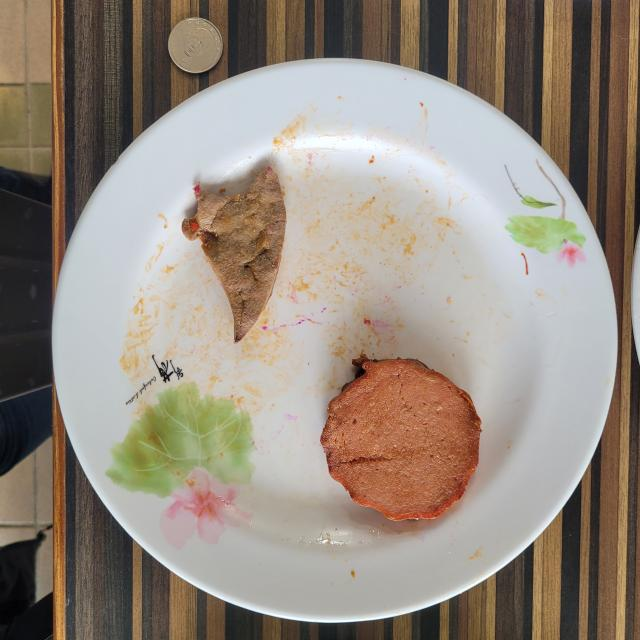Spam: (321, 355, 481, 520)
coin: (168, 18, 222, 74)
pig liver: (181, 166, 286, 342)
